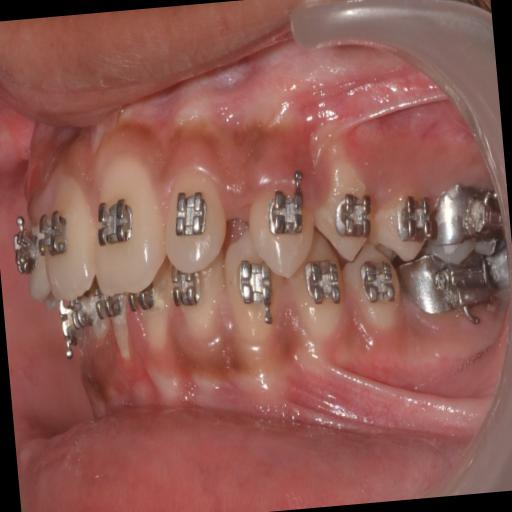correct_brace: (308, 154, 378, 267), (263, 168, 312, 249), (89, 194, 138, 252), (170, 187, 215, 246)
incorrect_brace: (155, 159, 233, 280), (326, 184, 375, 248)
